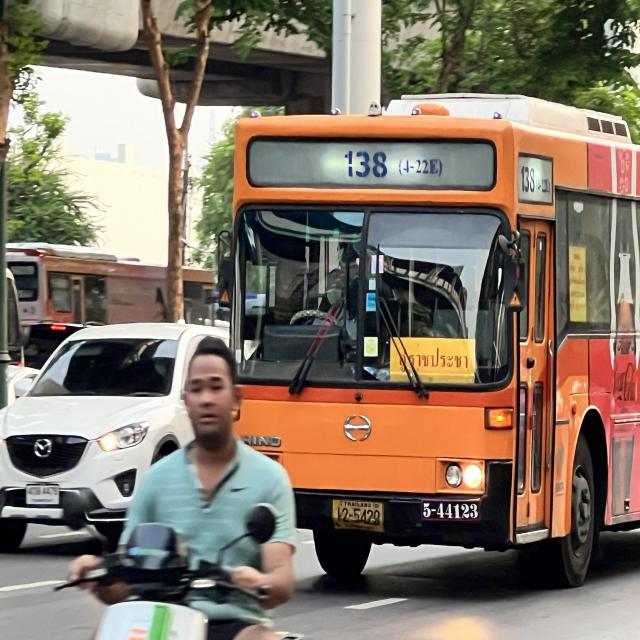BMTA-bus: (224, 82, 640, 591)
Bus-Line-Number: (332, 140, 455, 185)
Destination-Sign-Normal-Expressway: (387, 339, 476, 384)
